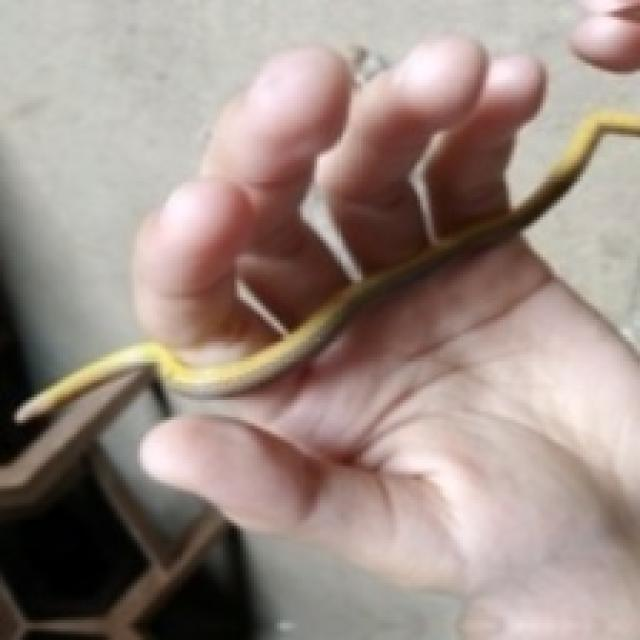gervais worm snake: (14, 111, 637, 420)
